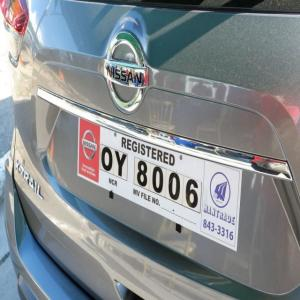Plate: (79, 118, 242, 254)
